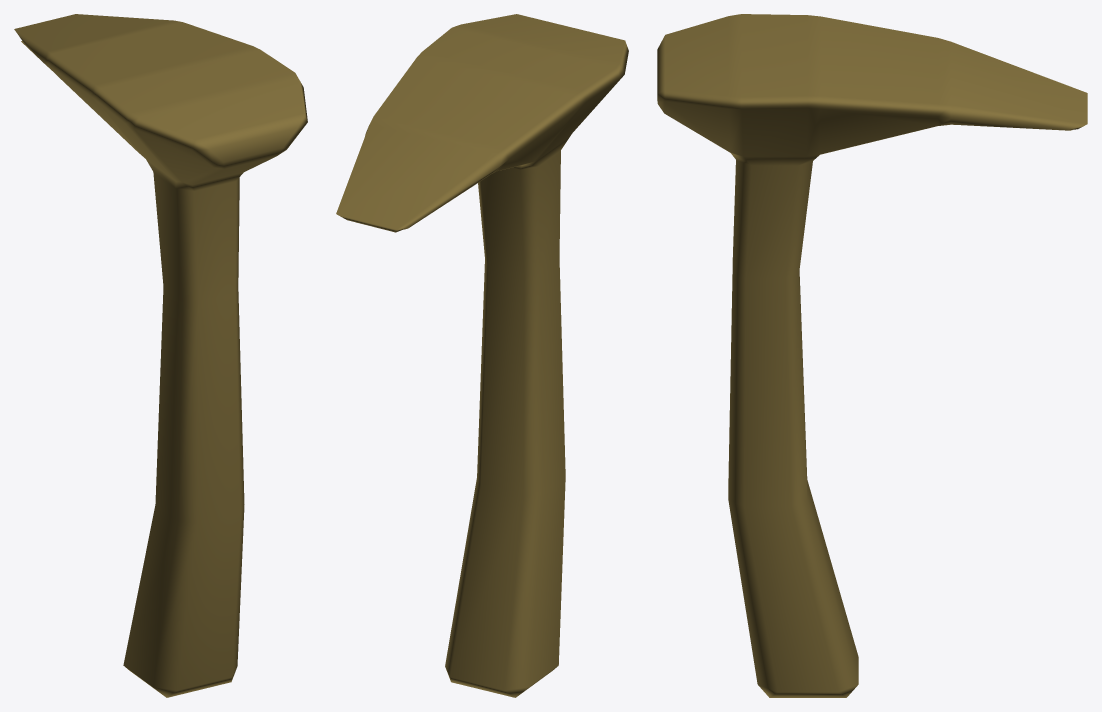
File: Tools.fbx
3 renders of one model, left to right at view 1: azimuth 30°, elevation 25°; view 2: azimuth 150°, elevation 25°; view 3: azimuth 270°, elevation 25°, orthographic. The views are drawn at different scales.
Visible parts, largest first — view 1: Plow; view 2: Plow; view 3: Plow.
Part boxes in pixels (box(x1,y1,x2,y2)): Plow: box(14, 14, 307, 697); Plow: box(336, 14, 628, 697); Plow: box(657, 14, 1087, 697).
Size of the model in its own units: 0.2447 by 0.8145 by 0.5074.
